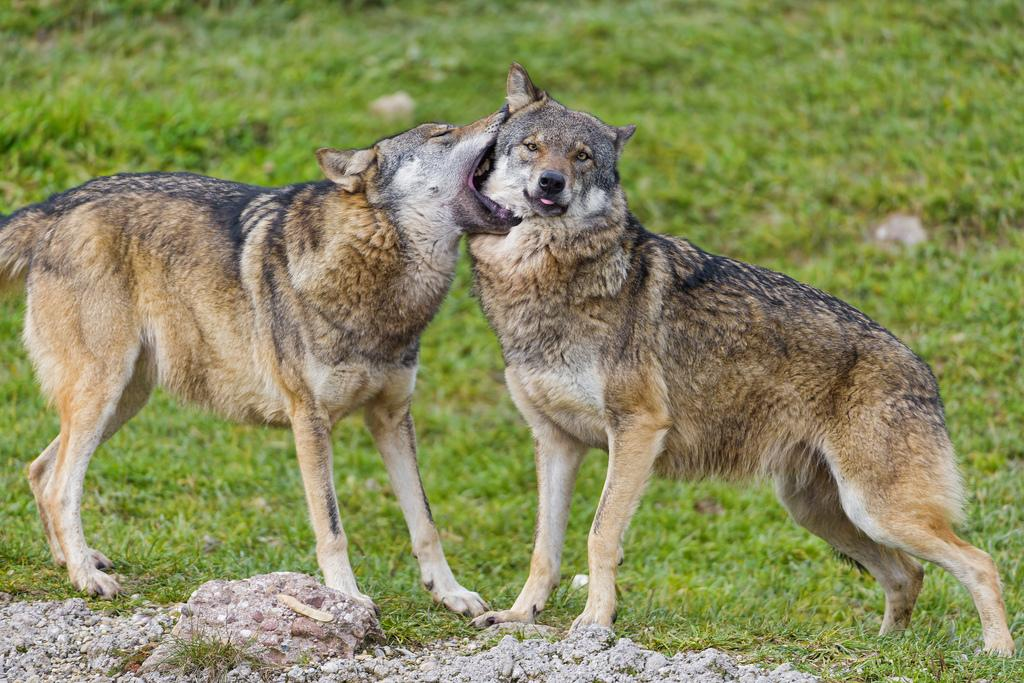Wolf: (475, 63, 1009, 655), (3, 109, 507, 619)
